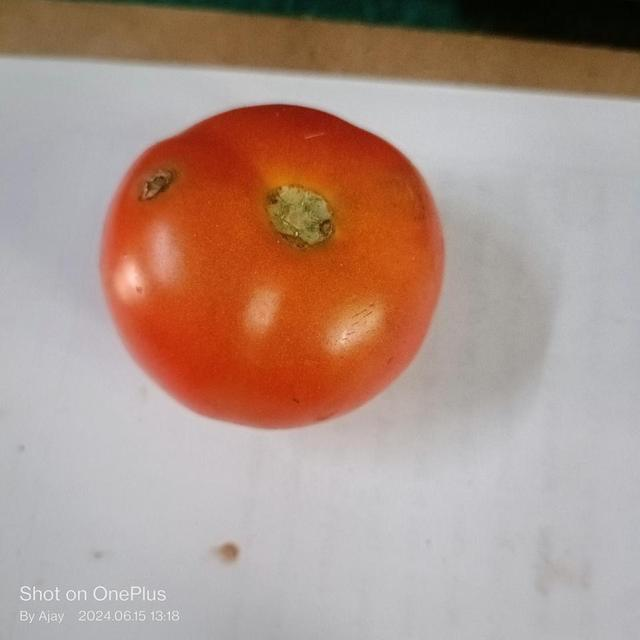Bacterial Spot Fruit: (92, 108, 116, 138)
